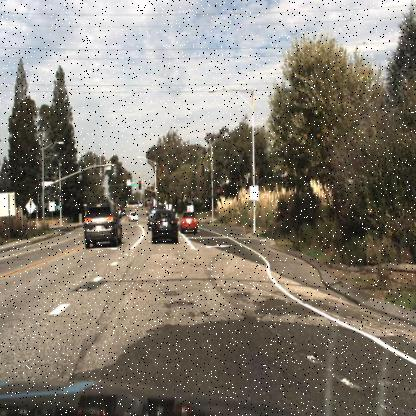car: (80, 202, 124, 252), (150, 208, 180, 247), (142, 204, 156, 233), (180, 211, 196, 233), (128, 211, 139, 223)
